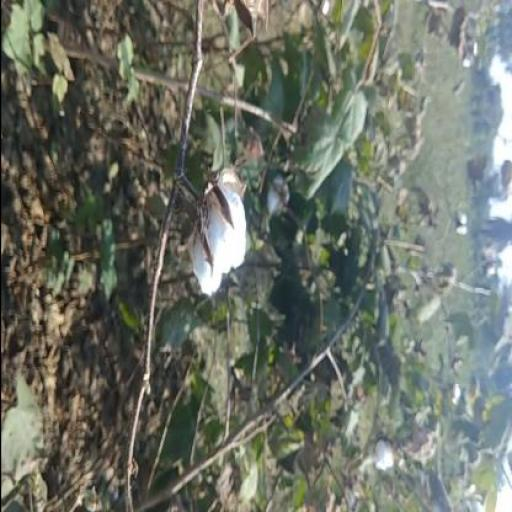cotton_ready: (167, 151, 253, 314)
